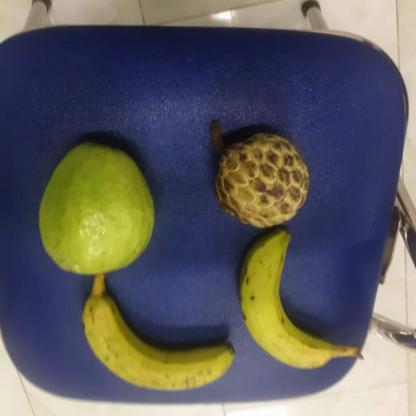annona: (214, 132, 315, 230)
banana: (78, 287, 240, 399), (233, 227, 342, 374)
guava: (35, 138, 157, 277)
